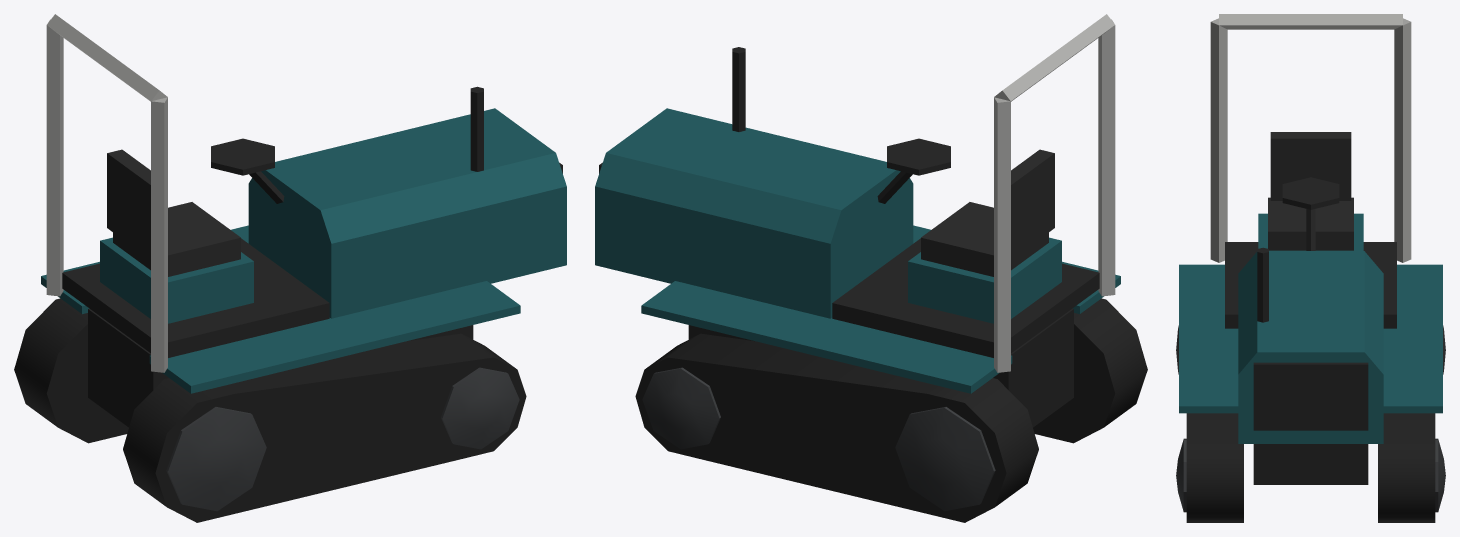
The model's file is SM_Prop_farm_crawler_0_LOD1.glb.
The picture shows the model from 3 angles, left to right: view 1: azimuth 30°, elevation 25°; view 2: azimuth 150°, elevation 25°; view 3: azimuth 270°, elevation 25°; orthographic projection. The views are drawn at different scales.
Parts seen in each view (by area): view 1: SM_Prop_farm_crawler_0_LOD1; view 2: SM_Prop_farm_crawler_0_LOD1; view 3: SM_Prop_farm_crawler_0_LOD1.
Boxes of the visible parts, <box> form: SM_Prop_farm_crawler_0_LOD1: <box>14,14,566,522</box>; SM_Prop_farm_crawler_0_LOD1: <box>595,14,1147,522</box>; SM_Prop_farm_crawler_0_LOD1: <box>1176,14,1445,522</box>.
Bounding box in the file's own units: 2.36 × 2.15 × 1.41.
